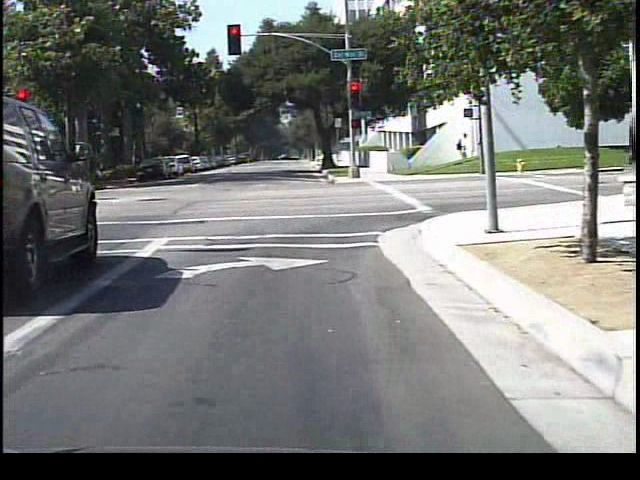person: (451, 128, 474, 173)
